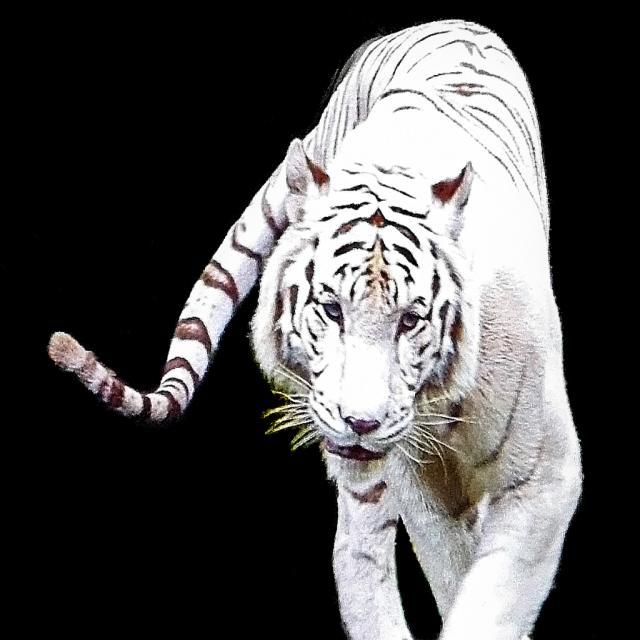Tiger: (48, 17, 583, 638)
